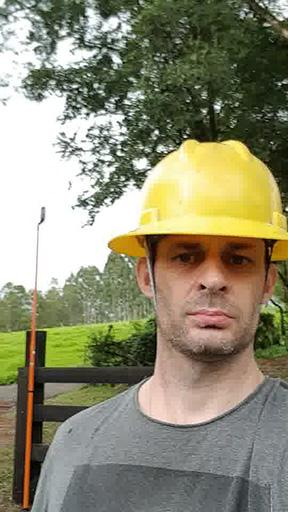Vara_Manobra: (21, 225, 41, 509)
